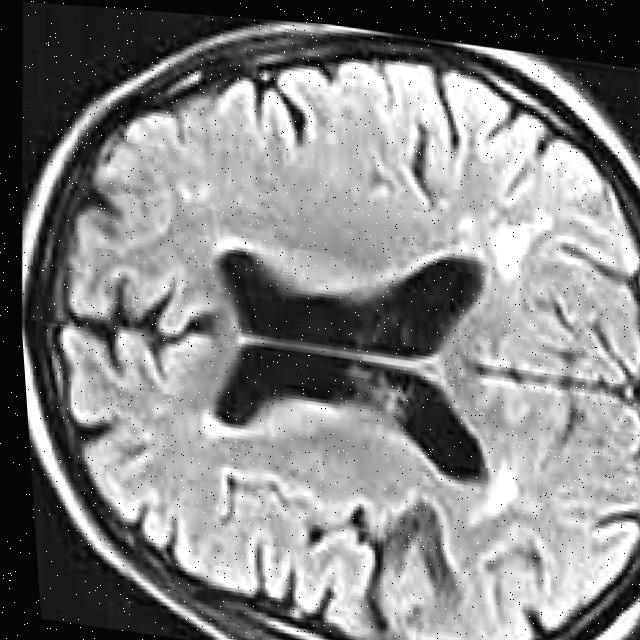NoTumor: (11, 1, 640, 640)
